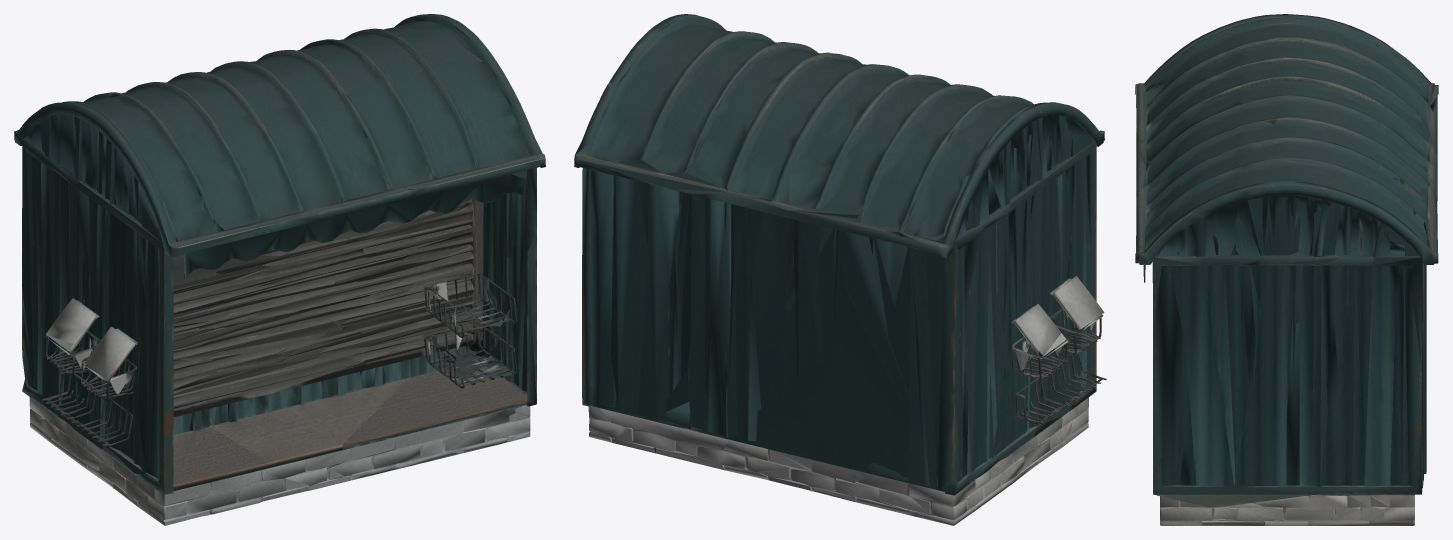
File: banca-de-jornal-v3__01a163c0.glb
The picture shows the model from 3 angles, left to right: view 1: azimuth 30°, elevation 25°; view 2: azimuth 150°, elevation 25°; view 3: azimuth 270°, elevation 25°; orthographic projection. The views are drawn at different scales.
Visible parts, largest first — view 1: banca-de-jornal-v3__01a163c0; view 2: banca-de-jornal-v3__01a163c0; view 3: banca-de-jornal-v3__01a163c0.
Part boxes in pixels (x1,y1,x2,y2): banca-de-jornal-v3__01a163c0: (14,14,545,525); banca-de-jornal-v3__01a163c0: (574,14,1106,525); banca-de-jornal-v3__01a163c0: (1135,14,1438,525).
Bounding box in the file's own units: 3.08 × 2.6 × 2.09.
Materials: 1 (1 with a texture image).
